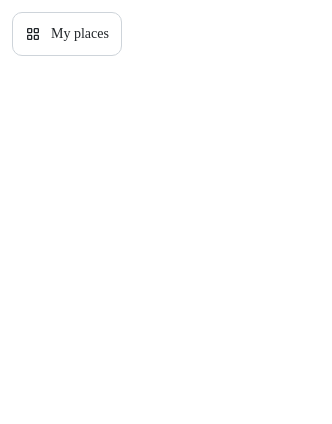
Test case: <Places /> › lists every place from dailyPlaceNames
Hover over the button "My places" at (67, 34), box 12,12 -> 122,56
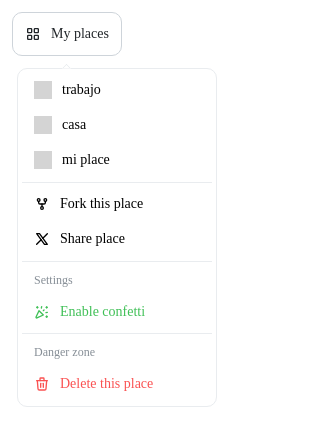
Now the text "trabajo" is shown, box 62,82 -> 101,97
Now the text "casa" is shown, box 62,117 -> 86,132
Now the text "mi place" is shown, box 62,152 -> 110,167
